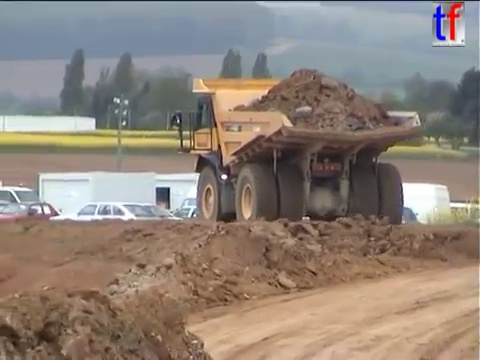truck: (167, 75, 424, 233)
